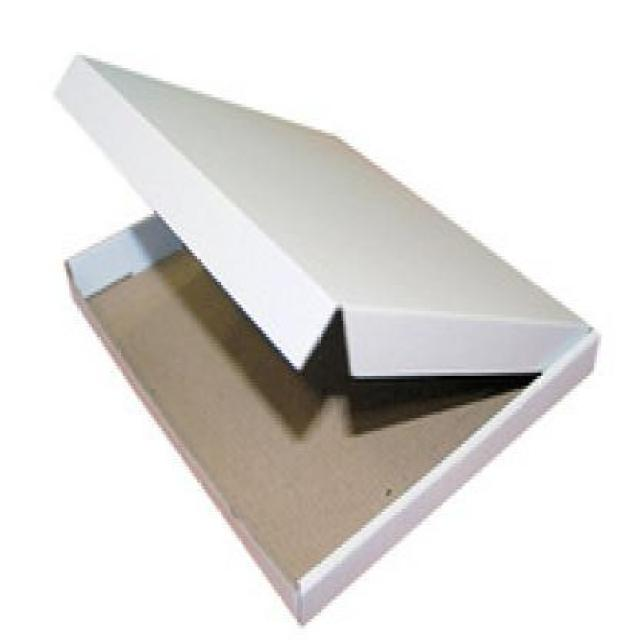box: (39, 22, 616, 626)
